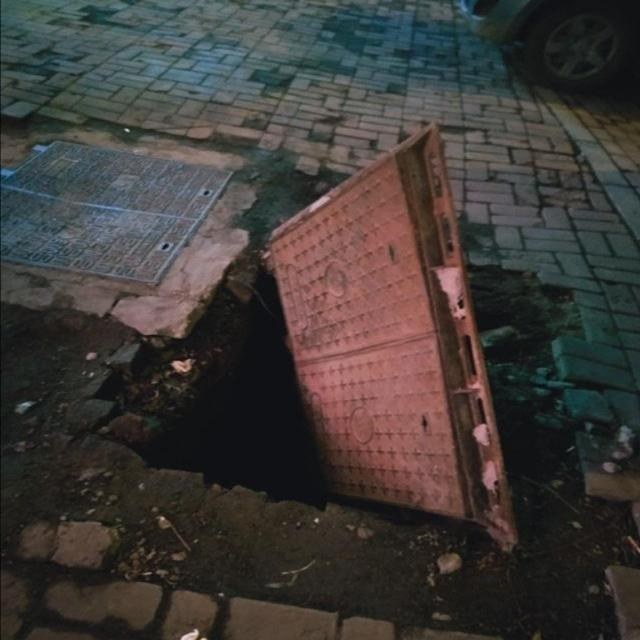manhole: (127, 127, 516, 551), (2, 141, 231, 283)
